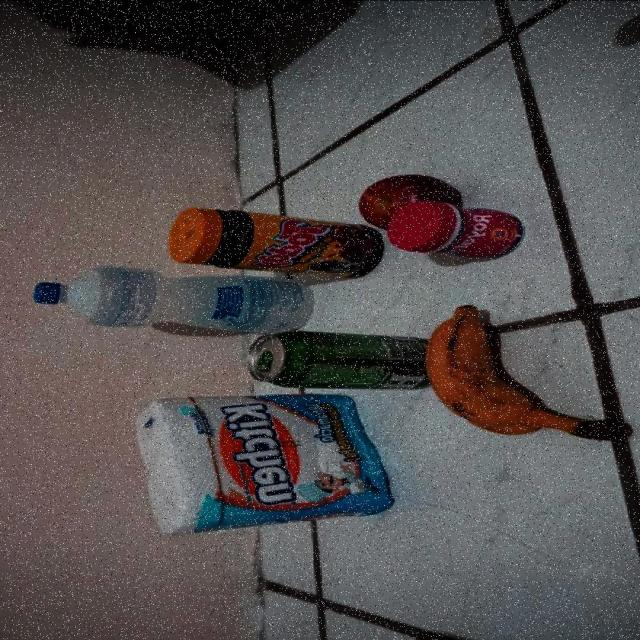AlcoholBottle: (33, 268, 313, 335)
Apple: (358, 172, 465, 232)
Banana: (426, 306, 629, 446)
BeerCan: (247, 330, 433, 389)
ChocolatePowder: (169, 207, 383, 280)
Napkin: (133, 395, 393, 534)
Yeast: (390, 201, 524, 261)
